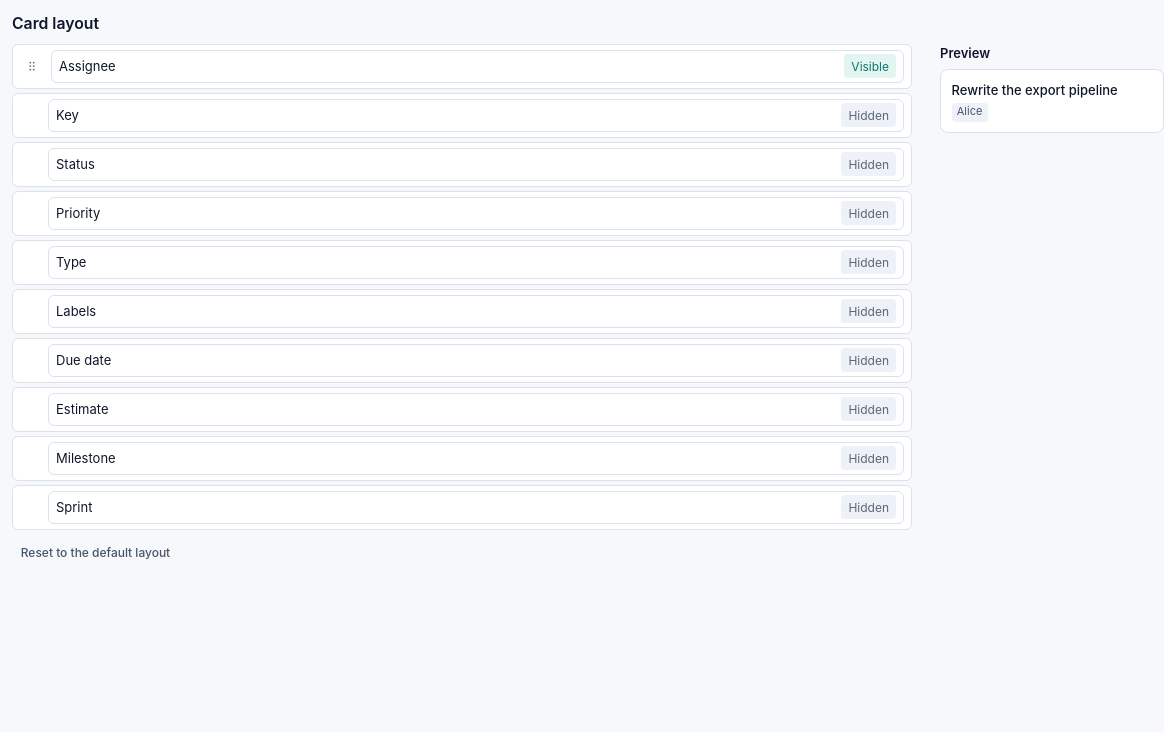
Test case: CardLayoutPanel › allows hiding every field and previews the empty card before saving
Click the button with test id "card-field-toggle-assignee" at (870, 66), box [844, 54, 896, 78]
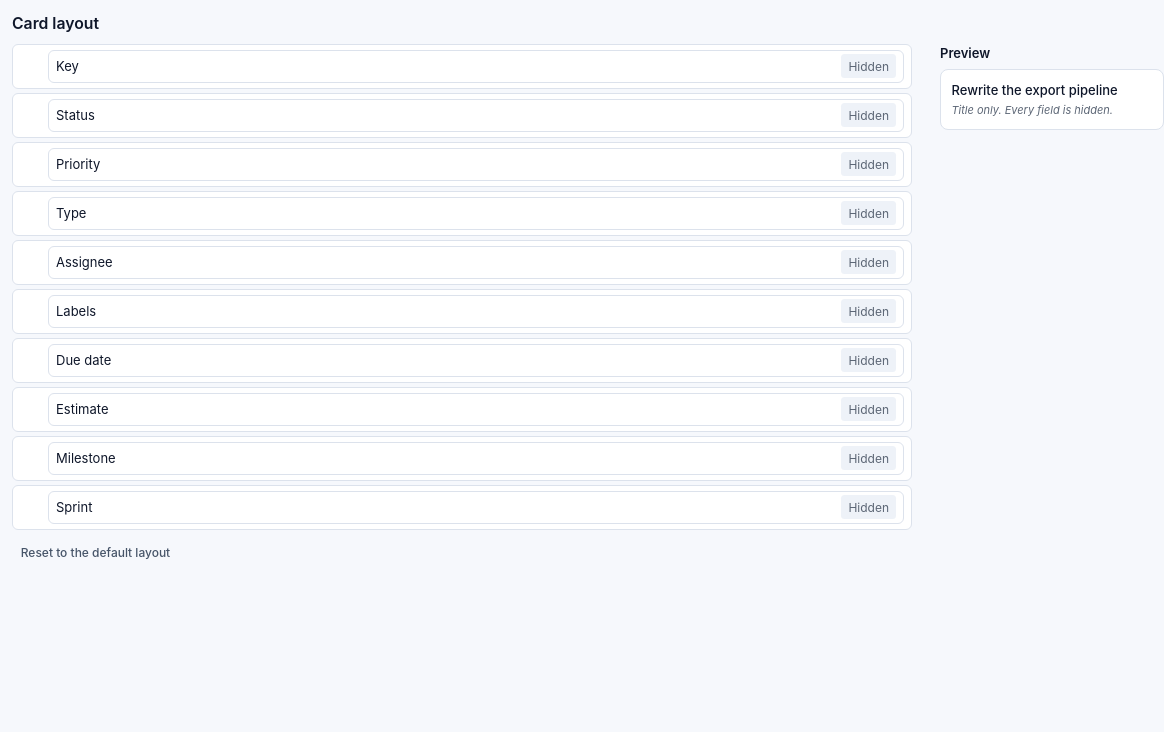
Now the text with test id "card-layout-preview-empty" shows "Title only", box [952, 103, 1113, 117]
